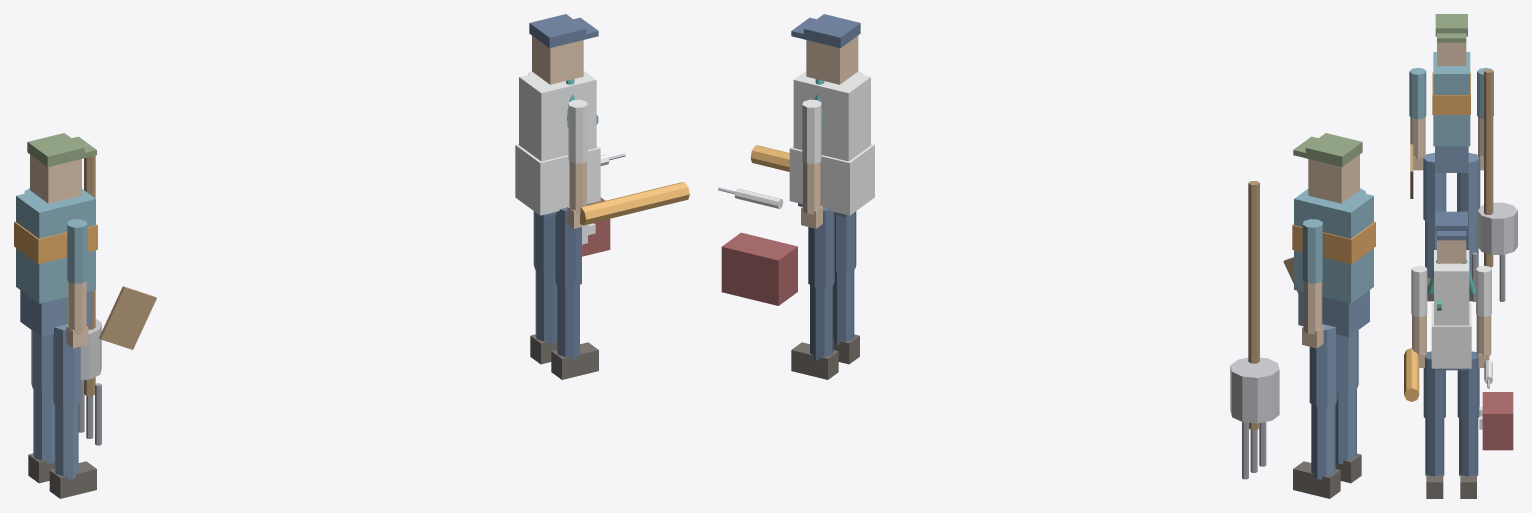
Rendered from worker.glb.
3 views of the same model, side by side, from view 1: azimuth 30°, elevation 25°; view 2: azimuth 150°, elevation 25°; view 3: azimuth 270°, elevation 25° (orthographic). The views are drawn at different scales.
Parts seen in each view (by area): view 1: TorsoMesh, TorsoMesh.001, CoatSkirt, ClipMesh, GloveMesh, Thigh_R, HeadMesh.001, HeadMesh, Thigh_R.001, Calf_R, Pelvis, Vest (+16 smaller); view 2: TorsoMesh, TorsoMesh.001, BagMesh, CoatSkirt, BucketMesh, ForkShaft, Thigh_L, HeadMesh.001, HeadMesh, Thigh_L.001, Calf_L, Pelvis (+15 smaller); view 3: TorsoMesh, TorsoMesh.001, CoatSkirt, BagMesh, BucketMesh, ForkShaft, Thigh_L.001, Thigh_R, Thigh_R.001, Thigh_L, Calf_L.001, Calf_R.001 (+26 smaller).
Boxes of the visible parts, left/top/right/bottom form: TorsoMesh: left=16, top=189, right=95, bottom=303; TorsoMesh.001: left=519, top=71, right=596, bottom=161; CoatSkirt: left=515, top=144, right=600, bottom=215; ClipMesh: left=99, top=286, right=156, bottom=349; GloveMesh: left=580, top=182, right=689, bottom=224; Thigh_R: left=52, top=324, right=80, bottom=406; HeadMesh.001: left=532, top=35, right=583, bottom=84; HeadMesh: left=30, top=154, right=81, bottom=203; Thigh_R.001: left=555, top=207, right=581, bottom=287; Calf_R: left=54, top=404, right=78, bottom=479; Pelvis: left=20, top=290, right=91, bottom=337; Vest: left=14, top=221, right=97, bottom=264; TorsoMesh: left=1294, top=189, right=1373, bottom=303; TorsoMesh.001: left=793, top=71, right=870, bottom=161; BagMesh: left=721, top=232, right=797, bottom=305; CoatSkirt: left=789, top=144, right=874, bottom=215; BucketMesh: left=1230, top=357, right=1279, bottom=423; ForkShaft: left=1248, top=181, right=1259, bottom=430; Thigh_L: left=1309, top=324, right=1337, bottom=406; HeadMesh.001: left=806, top=35, right=858, bottom=84; HeadMesh: left=1308, top=154, right=1359, bottom=203; Thigh_L.001: left=808, top=207, right=834, bottom=287; Calf_L: left=1311, top=404, right=1335, bottom=479; Pelvis: left=1298, top=290, right=1369, bottom=337; TorsoMesh: left=1433, top=52, right=1470, bottom=146; TorsoMesh.001: left=1434, top=250, right=1469, bottom=325; CoatSkirt: left=1431, top=303, right=1471, bottom=368; BagMesh: left=1482, top=392, right=1513, bottom=450; BucketMesh: left=1478, top=202, right=1517, bottom=254; ForkShaft: left=1484, top=69, right=1493, bottom=267; Thigh_L.001: left=1457, top=351, right=1479, bottom=421; Thigh_R: left=1423, top=153, right=1446, bottom=223; Thigh_R.001: left=1423, top=351, right=1445, bottom=421; Thigh_L: left=1457, top=153, right=1480, bottom=223; Calf_L.001: left=1459, top=418, right=1478, bottom=476; Calf_R.001: left=1425, top=419, right=1444, bottom=476.
Bounding box in the file's own units: 3.79 × 1.96 × 0.74.
